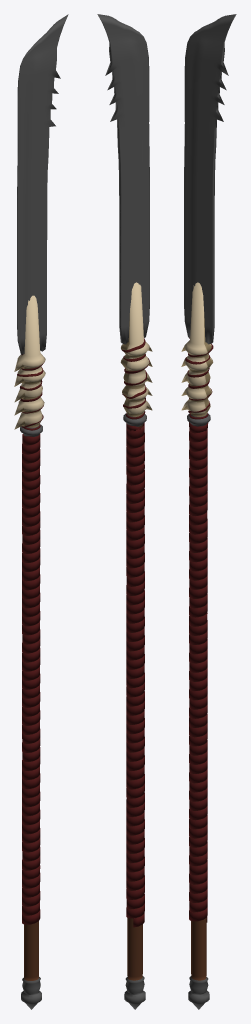
Rendered from GlaiveModel.fbx.
3 renders of one model, left to right at view 1: azimuth 30°, elevation 25°; view 2: azimuth 210°, elevation 25°; view 3: azimuth 330°, elevation 25°, orthographic.
Parts seen in each view (by area): view 1: Cube; view 2: Cube; view 3: Cube.
Part boxes in pixels (bbox=[...]): Cube: bbox=[14, 14, 68, 1009]; Cube: bbox=[97, 14, 152, 1009]; Cube: bbox=[181, 14, 236, 1009].
Bounding box in the file's own units: 35.76 × 618 × 16.23.
